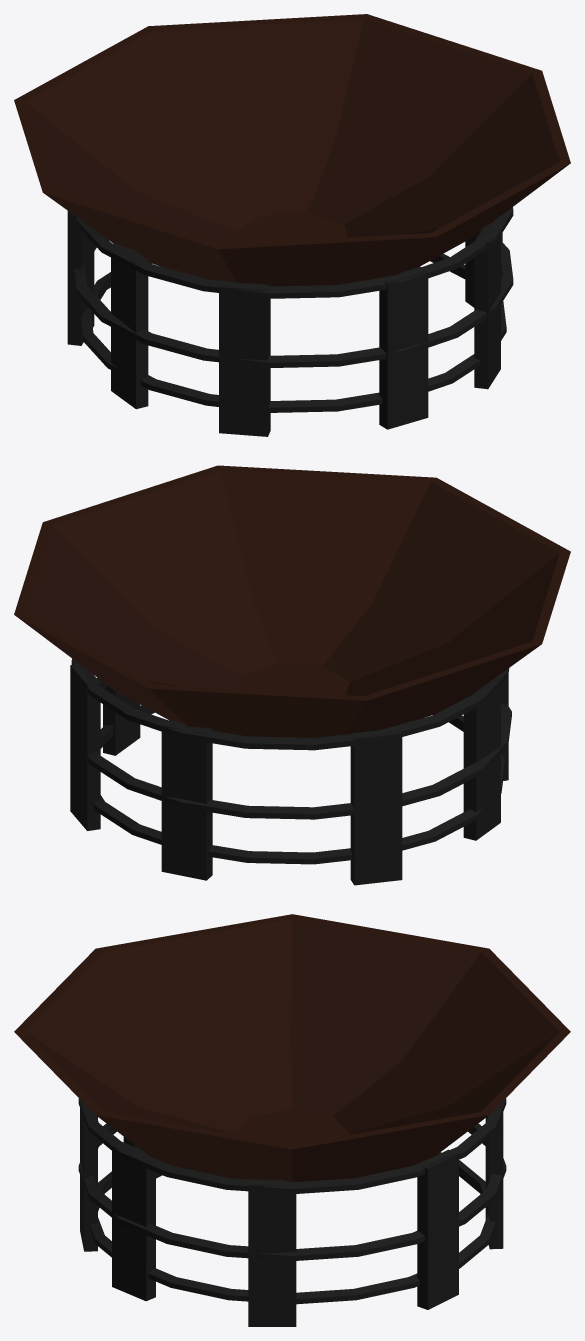
File: Brazier.fbx
The picture shows the model from 3 angles, top to bottom: view 1: azimuth 30°, elevation 25°; view 2: azimuth 150°, elevation 25°; view 3: azimuth 270°, elevation 25°; orthographic projection. The views are drawn at different scales.
Parts seen in each view (by area): view 1: pCylinder1, group1_pCube1; view 2: pCylinder1, group1_pCube1; view 3: pCylinder1, group1_pCube1.
Part boxes in pixels (x1=…): pCylinder1: x1=14, y1=14, x2=570, y2=286; group1_pCube1: x1=67, y1=207, x2=513, y2=436; pCylinder1: x1=14, y1=465, x2=570, y2=737; group1_pCube1: x1=70, y1=658, x2=511, y2=885; pCylinder1: x1=14, y1=914, x2=570, y2=1181; group1_pCube1: x1=78, y1=1098, x2=506, y2=1326.
Size of the model in its own units: 8.5 by 3.48 by 8.5.
